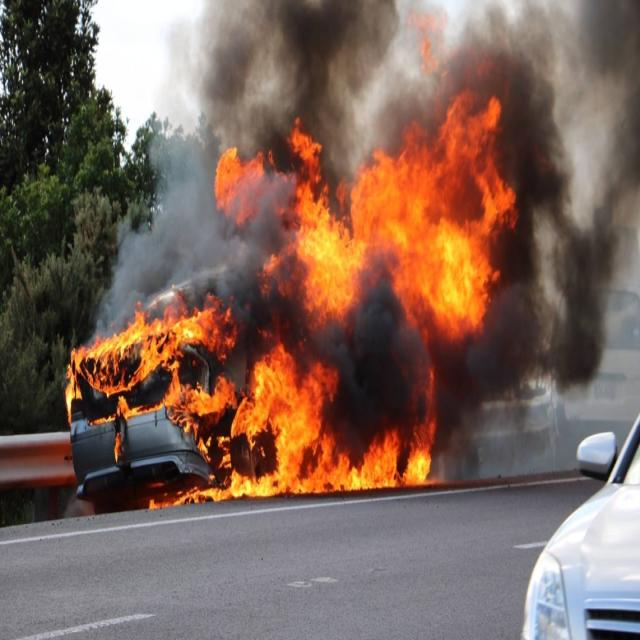fire: (359, 92, 514, 335), (214, 131, 357, 320), (69, 307, 232, 441), (236, 356, 340, 512), (343, 422, 437, 494)
smoke: (520, 6, 638, 375), (190, 4, 355, 123)
